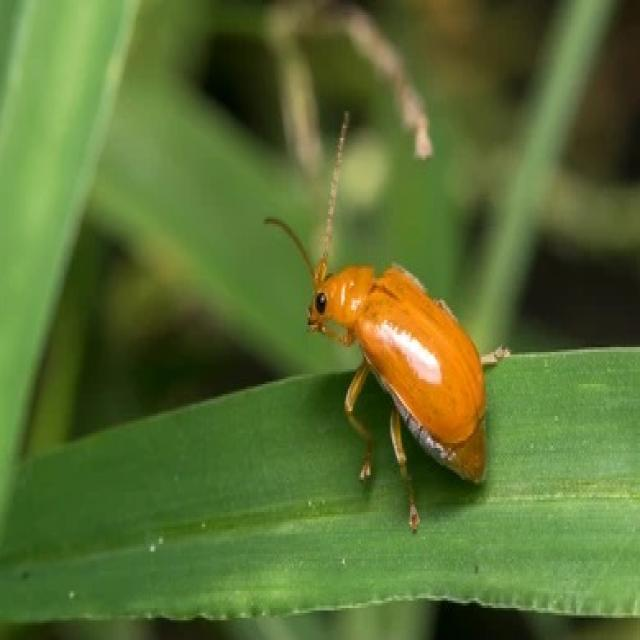Pumpkin Beetle: (256, 98, 518, 543)
